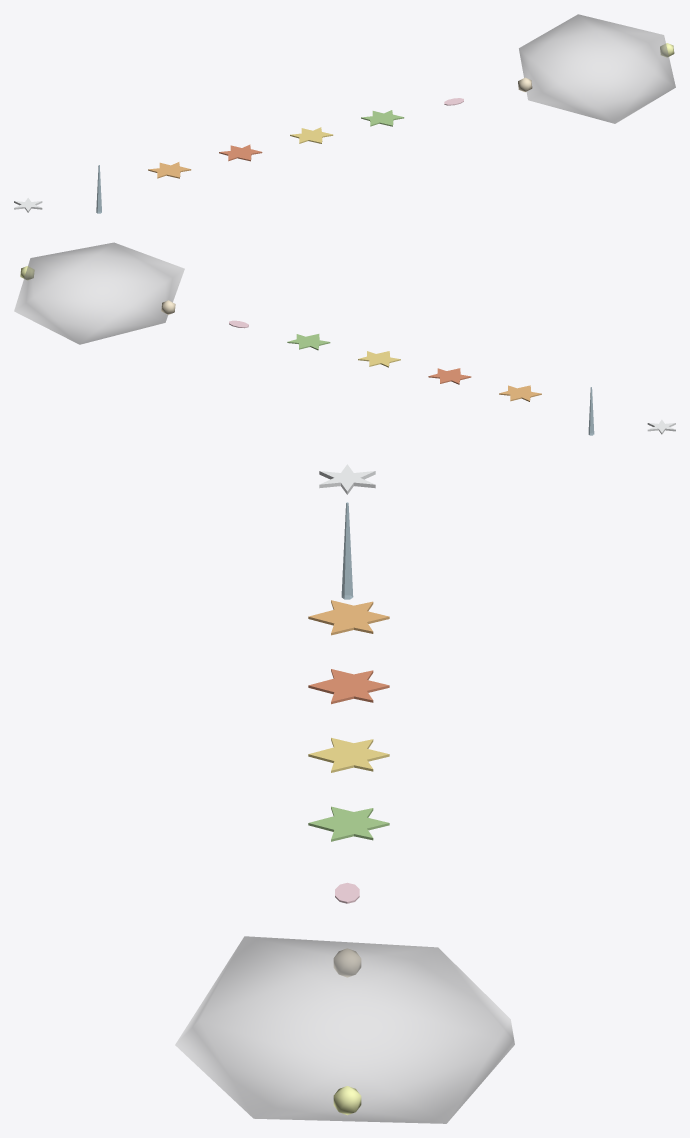
The model's file is weather-kit.glb.
The picture shows the model from 3 angles, top to bottom: view 1: azimuth 30°, elevation 25°; view 2: azimuth 150°, elevation 25°; view 3: azimuth 270°, elevation 25°; orthographic projection. The views are drawn at different scales.
Parts seen in each view (by area): view 1: mist, leaf_red, leaf_orange, leaf_yellow, leaf_green; view 2: mist, leaf_red, leaf_yellow, leaf_green, leaf_orange; view 3: mist, leaf_green, leaf_orange, leaf_red, leaf_yellow.
Part boxes in pixels (box(x1,y1,x2,y2)): mist: box(519, 14, 675, 123); leaf_red: box(219, 144, 262, 161); leaf_orange: box(148, 162, 191, 178); leaf_yellow: box(290, 127, 333, 143); leaf_green: box(361, 110, 404, 126); mist: box(14, 242, 184, 344); leaf_red: box(428, 368, 471, 384); leaf_yellow: box(358, 351, 400, 367); leaf_green: box(287, 334, 330, 350); leaf_orange: box(499, 385, 541, 401); mist: box(175, 936, 514, 1123); leaf_green: box(308, 806, 389, 841); leaf_orange: box(308, 600, 389, 635); leaf_red: box(308, 669, 389, 704); leaf_yellow: box(308, 737, 389, 772).
Size of the model in its own units: 4.64 by 0.5005 by 1.04.
